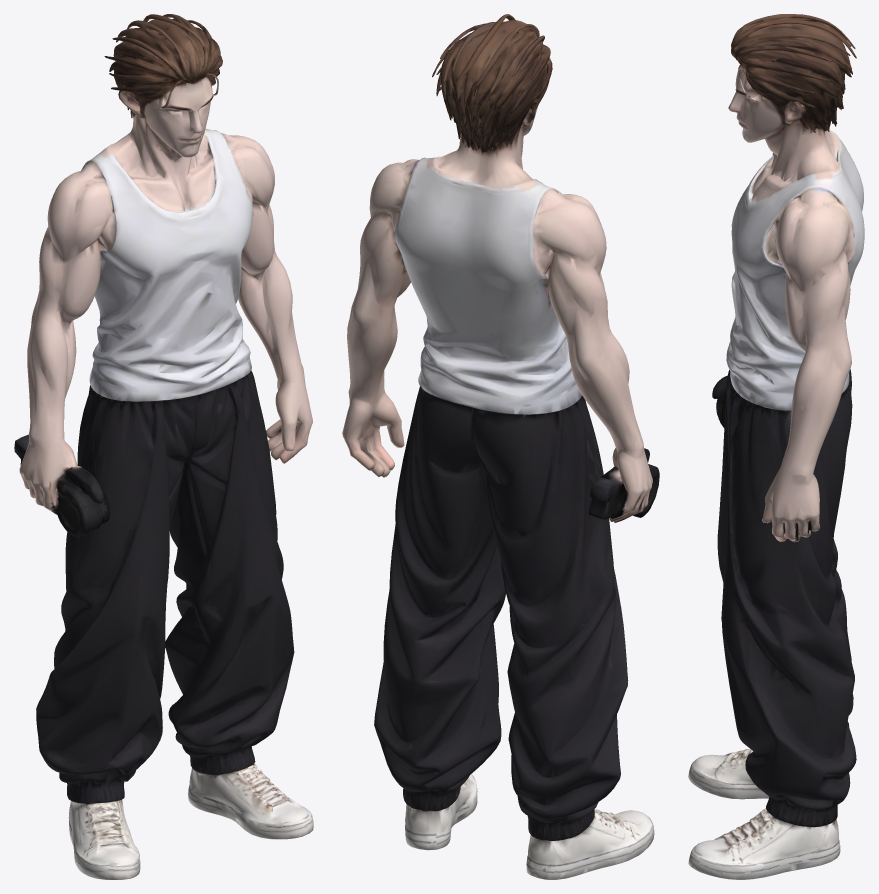
File: noah.glb
3 views of the same model, side by side, from view 1: azimuth 30°, elevation 25°; view 2: azimuth 150°, elevation 25°; view 3: azimuth 270°, elevation 25° (orthographic).
Visible parts, largest first — view 1: c3; view 2: c3; view 3: c3.
Boxes of the visible parts, <box> form: c3: <box>14,14,313,879</box>; c3: <box>342,14,659,879</box>; c3: <box>688,14,864,879</box>.
Size of the model in its own units: 0.6361 by 1.7 by 0.3344.
Materials: 1 (1 with a texture image).
